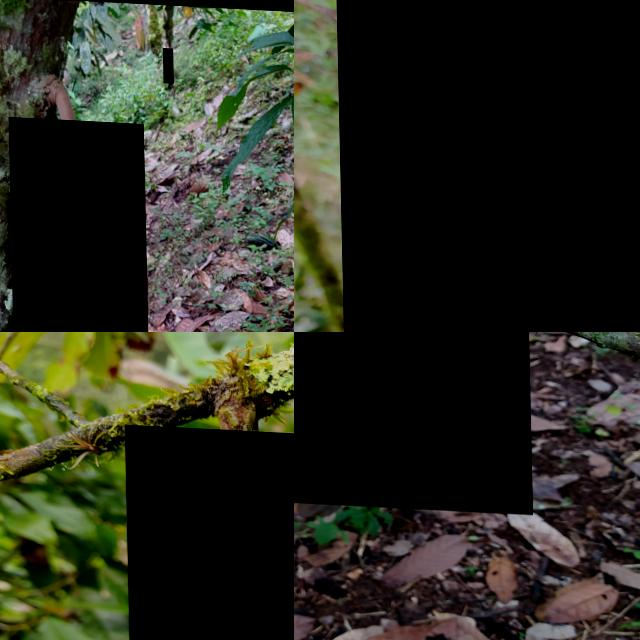Fitoftora: (336, 0, 640, 332), (124, 422, 294, 640)
Monilia: (294, 332, 531, 509)
Sana: (8, 114, 149, 332), (163, 44, 173, 79)
